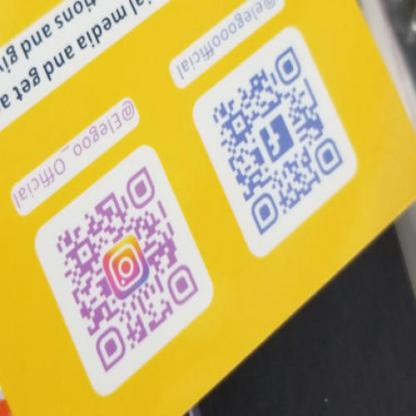qr: (48, 166, 206, 380), (207, 41, 348, 238)
